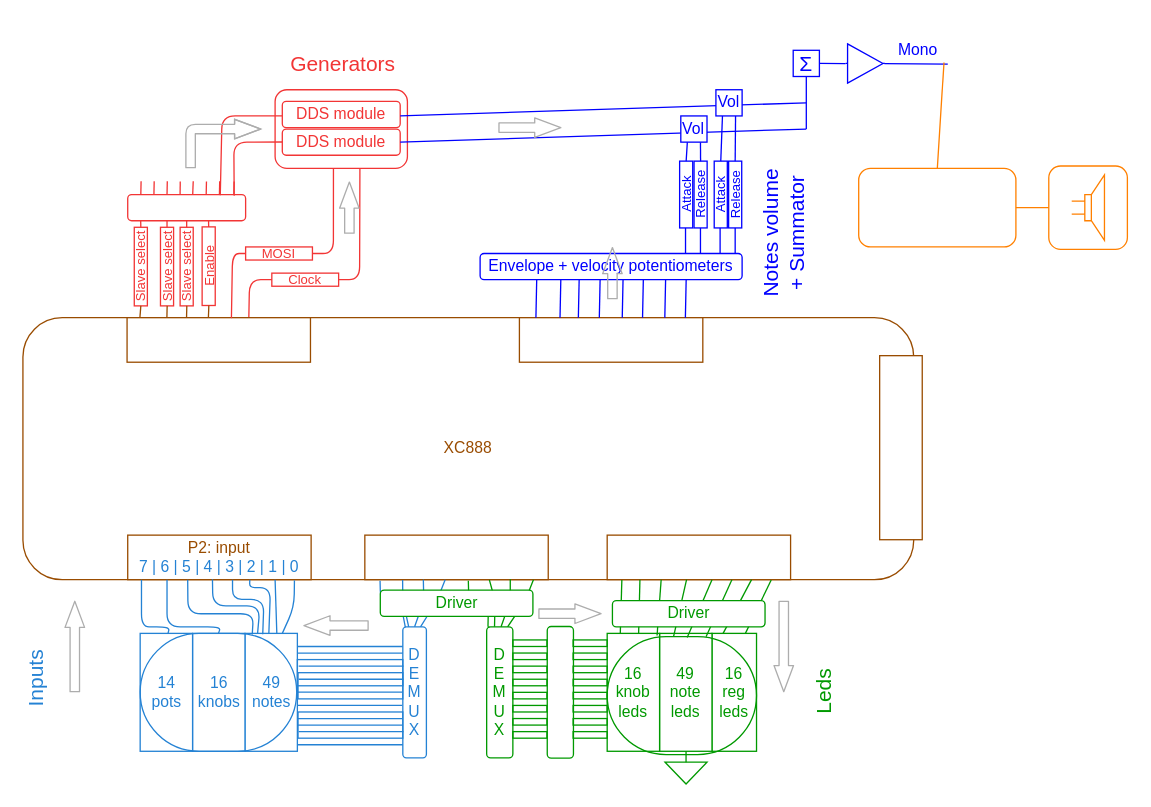
The diagram is 1151 pixels wide and 807 high, and some of its shapes have lost their labels. Here are the shapes that lost their labels. From the top down, the centre of each, then its label:
point (864, 63): Synth volume
point (186, 207): DECODER
point (936, 207): Master section
point (218, 339): 7 | 6 | 5 | 4 | 3 | 2 | 1 | 0 P1: SPI interface
point (610, 339): 7 | 6 | 5 | 4 | 3 | 2 | 1 | 0 P5: Note on/off
point (900, 447): P0: MIDI 7 | 6 | 5 | 4 | 3 | 2 | 1 | 0
point (456, 557): P3: Scan matrix 7 | 6 | 5 | 4 | 3 | 2 | 1 | 0
point (698, 557): P4: led output 7 | 6 | 5 | 4 | 3 | 2 | 1 | 0
point (560, 691): transistors
